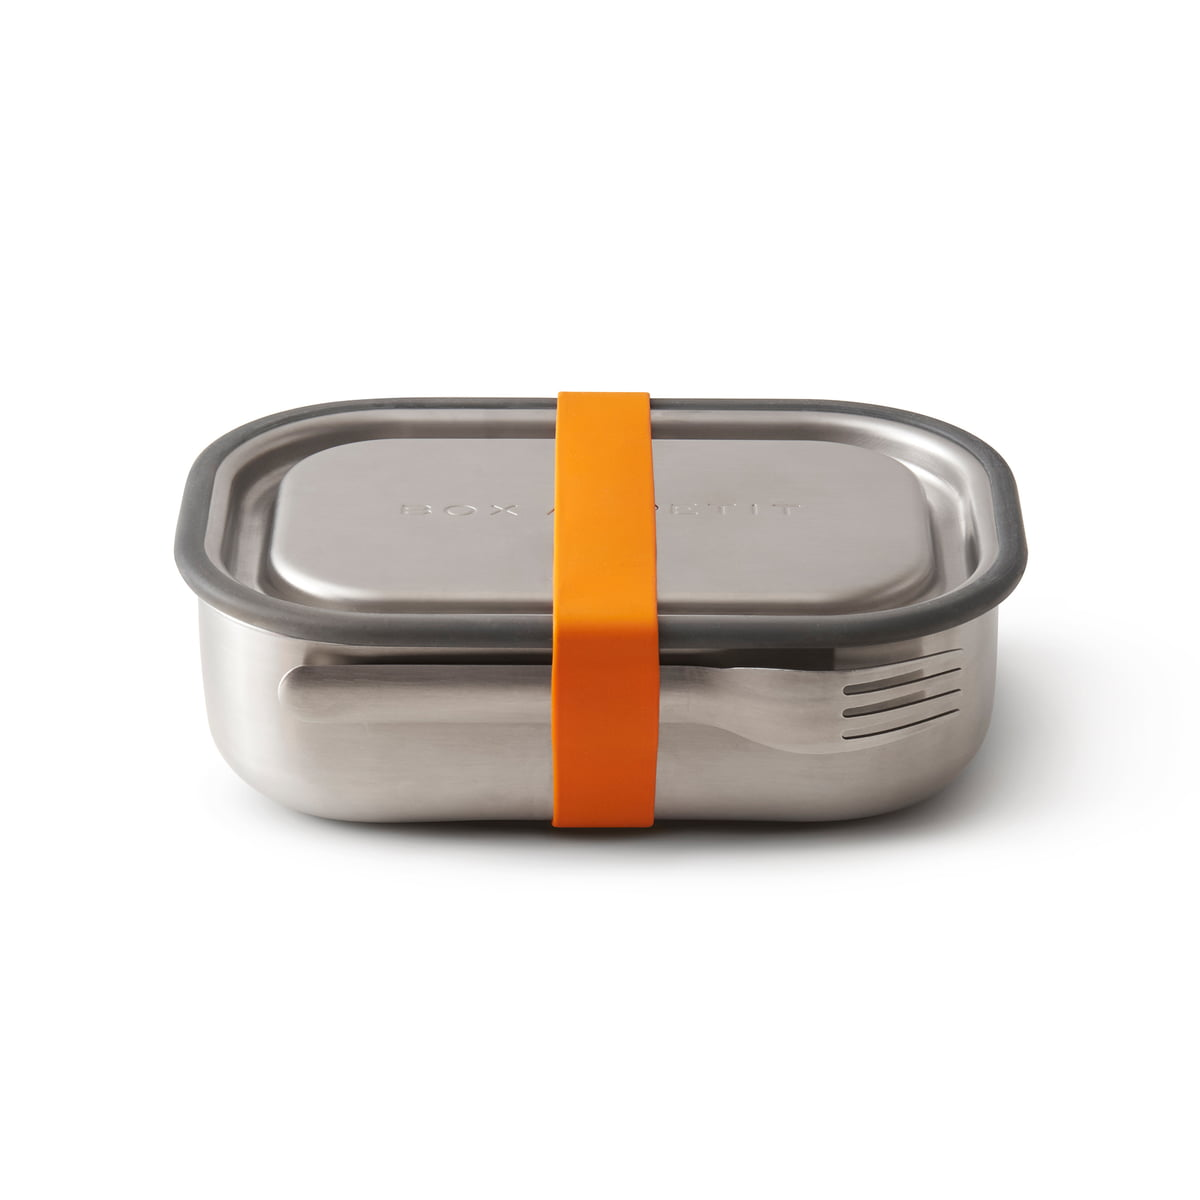metal: (170, 390, 1030, 830)
